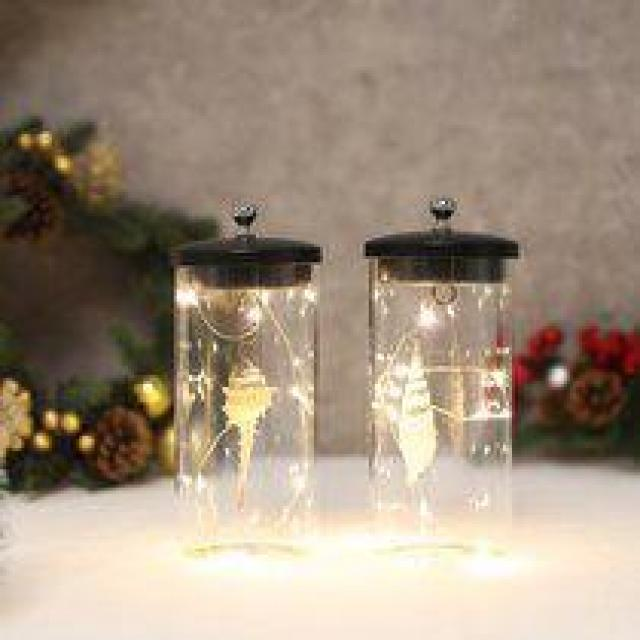non-organic waste: (174, 200, 323, 556)
